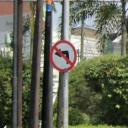NoVirarEsquerda: (48, 39, 78, 73)
